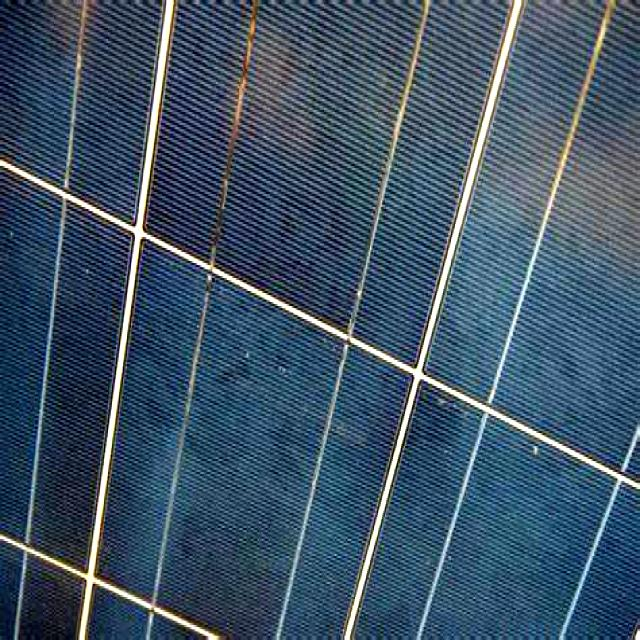shadow: (206, 1, 304, 298)
